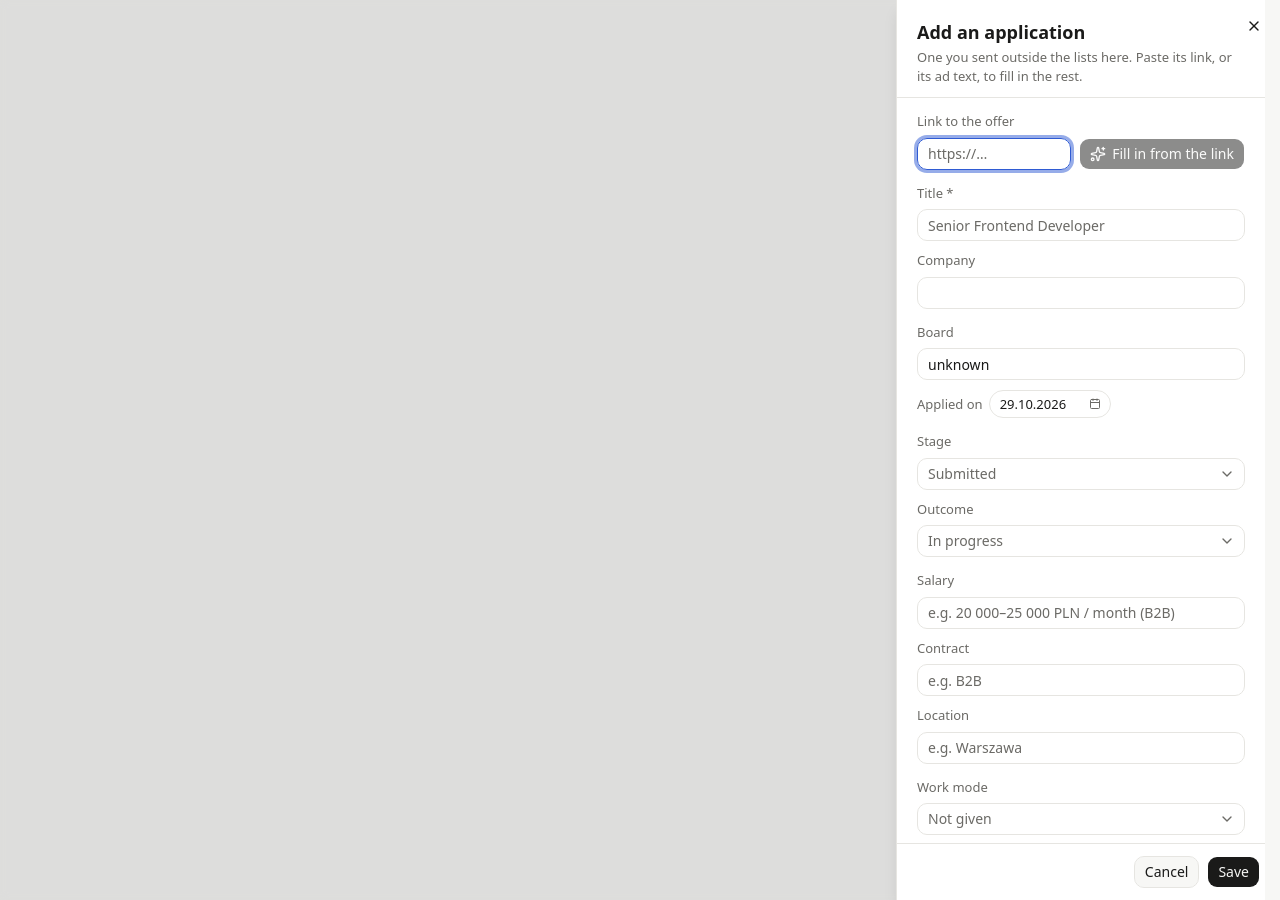
Test: ApplicationForm › "Fill in from the link" leaves what you typed, and fills the rest
The width and height of the screenshot is (1280, 900).
Type "My own title" into the field labelled "Title *" at (1081, 225), box [917,209,1245,241]
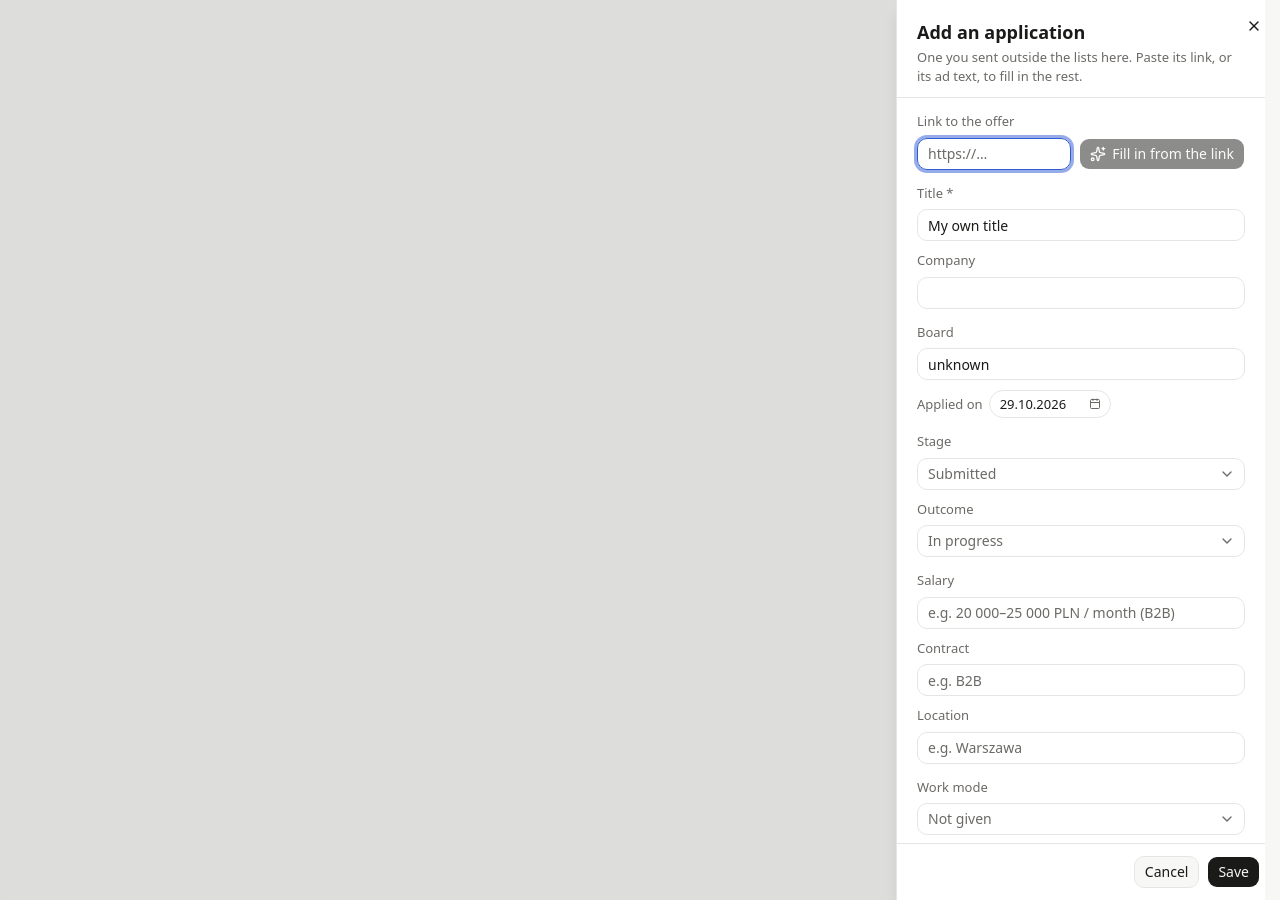
Type "https://justjoin.it/job-offer/acme-react-dev" into the field labelled "Link to the offer" at (994, 154), box [917,138,1071,170]
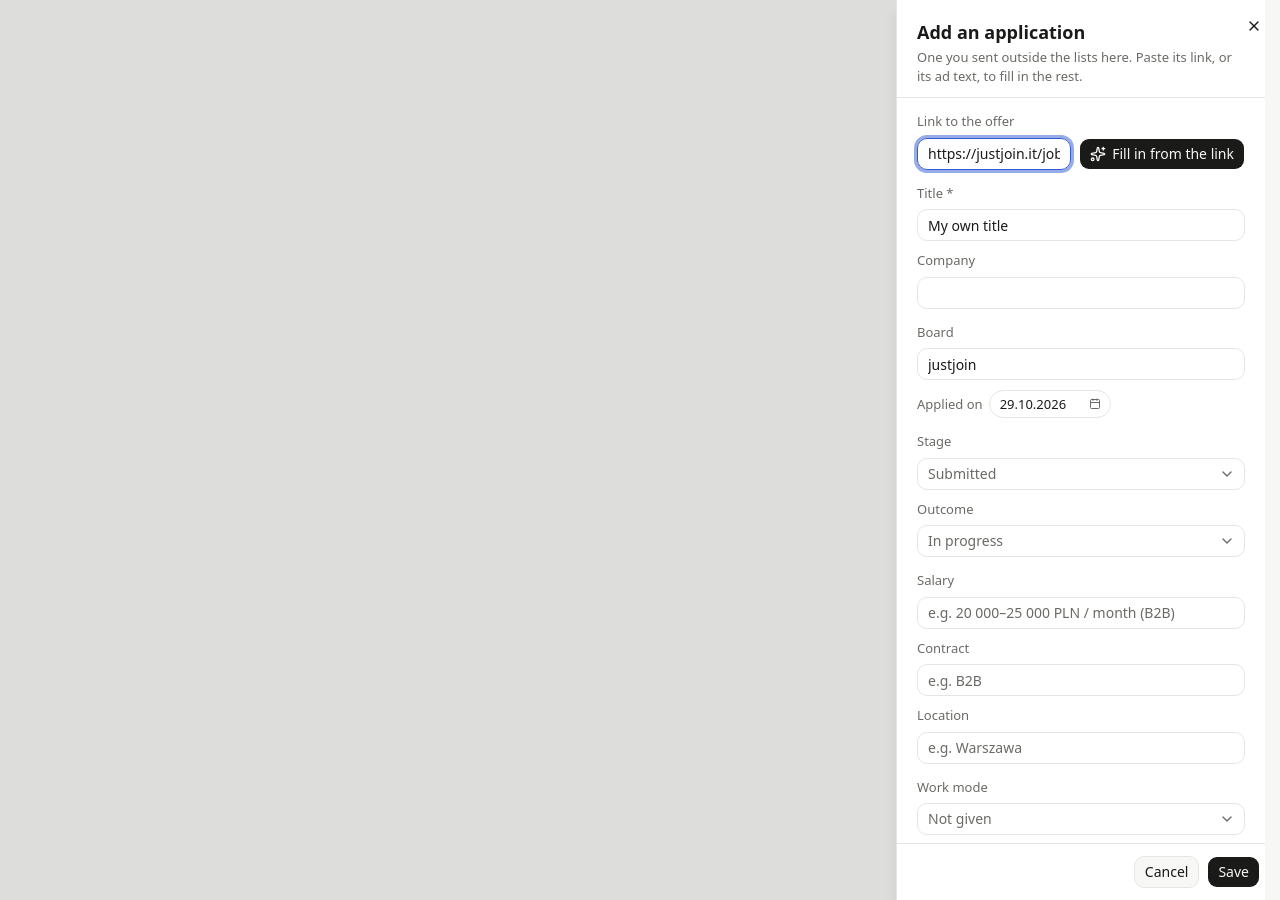
Expected: the field labelled "Board" holds "justjoin", [917,348,1245,380]
Click the button "Fill in from the link" at (1162, 154), box [1079,138,1245,170]
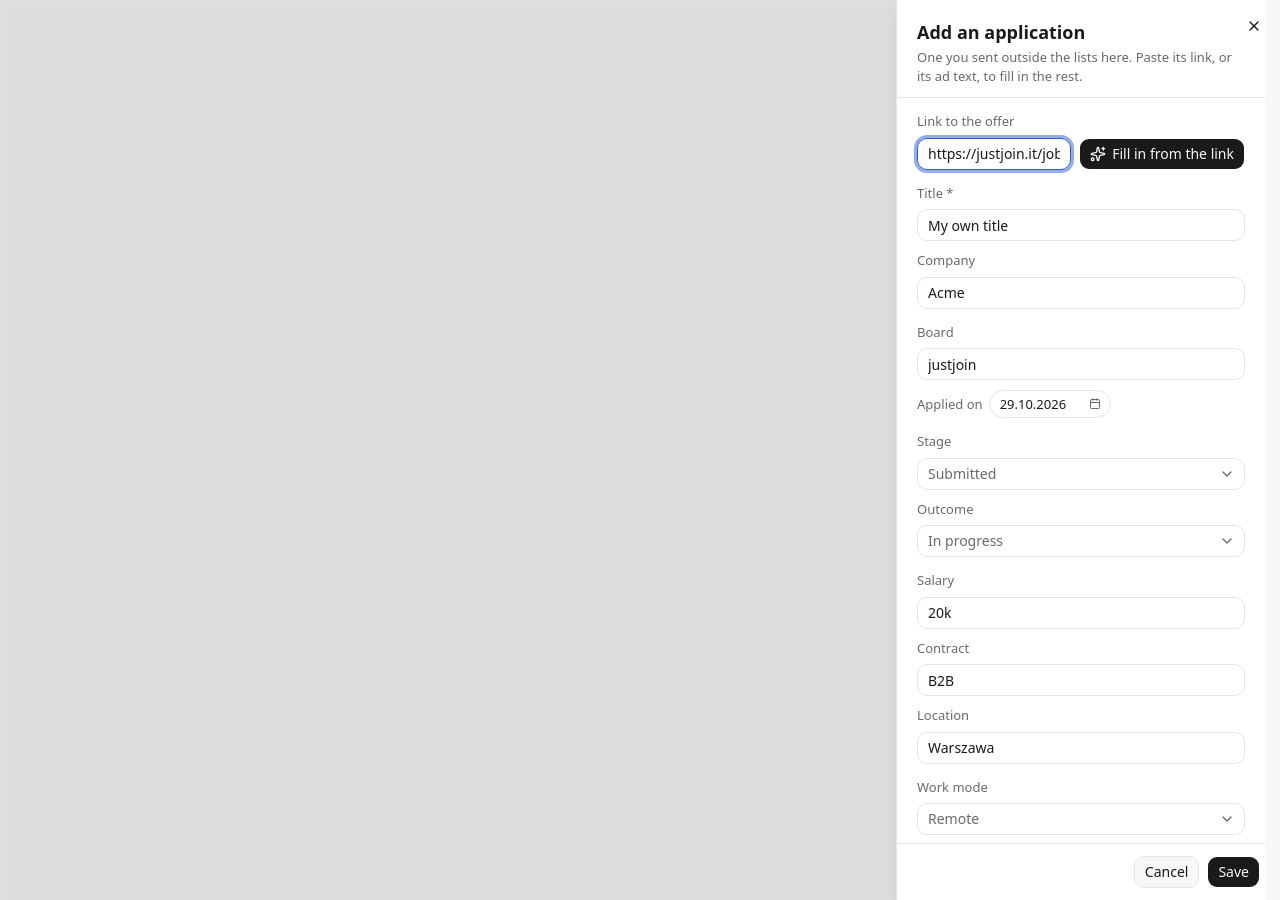
Expected: the field labelled "Company" holds "Acme", [917,277,1245,309]
Expected: the field labelled "Salary" holds "20k", [917,597,1245,629]
Expected: the dropdown labelled "Work mode" shows "Remote", [917,803,1245,835]
Click the button "Fill in from the link" at (1162, 154), box [1079,138,1245,170]
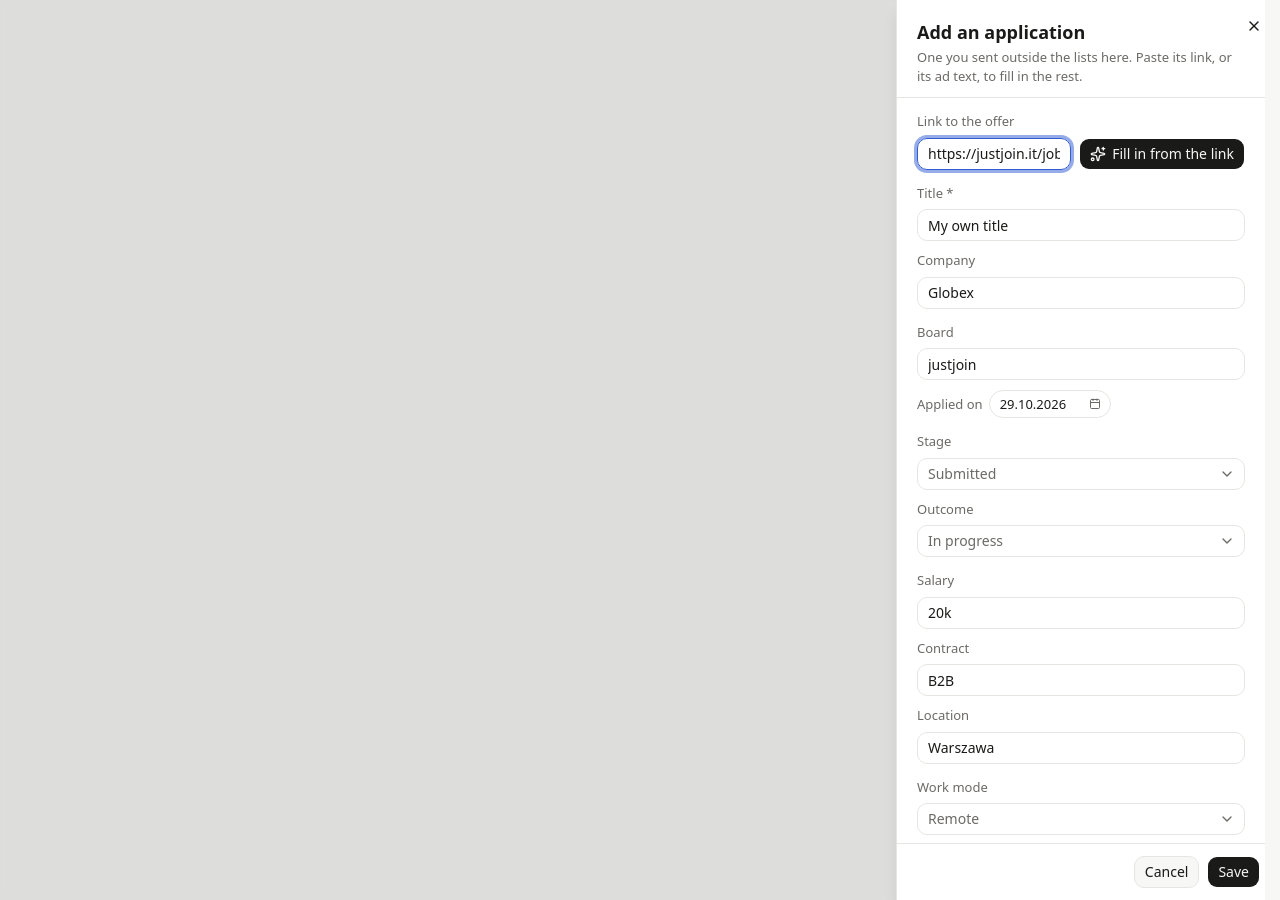
Expected: the field labelled "Company" holds "Globex", [917,277,1245,309]
